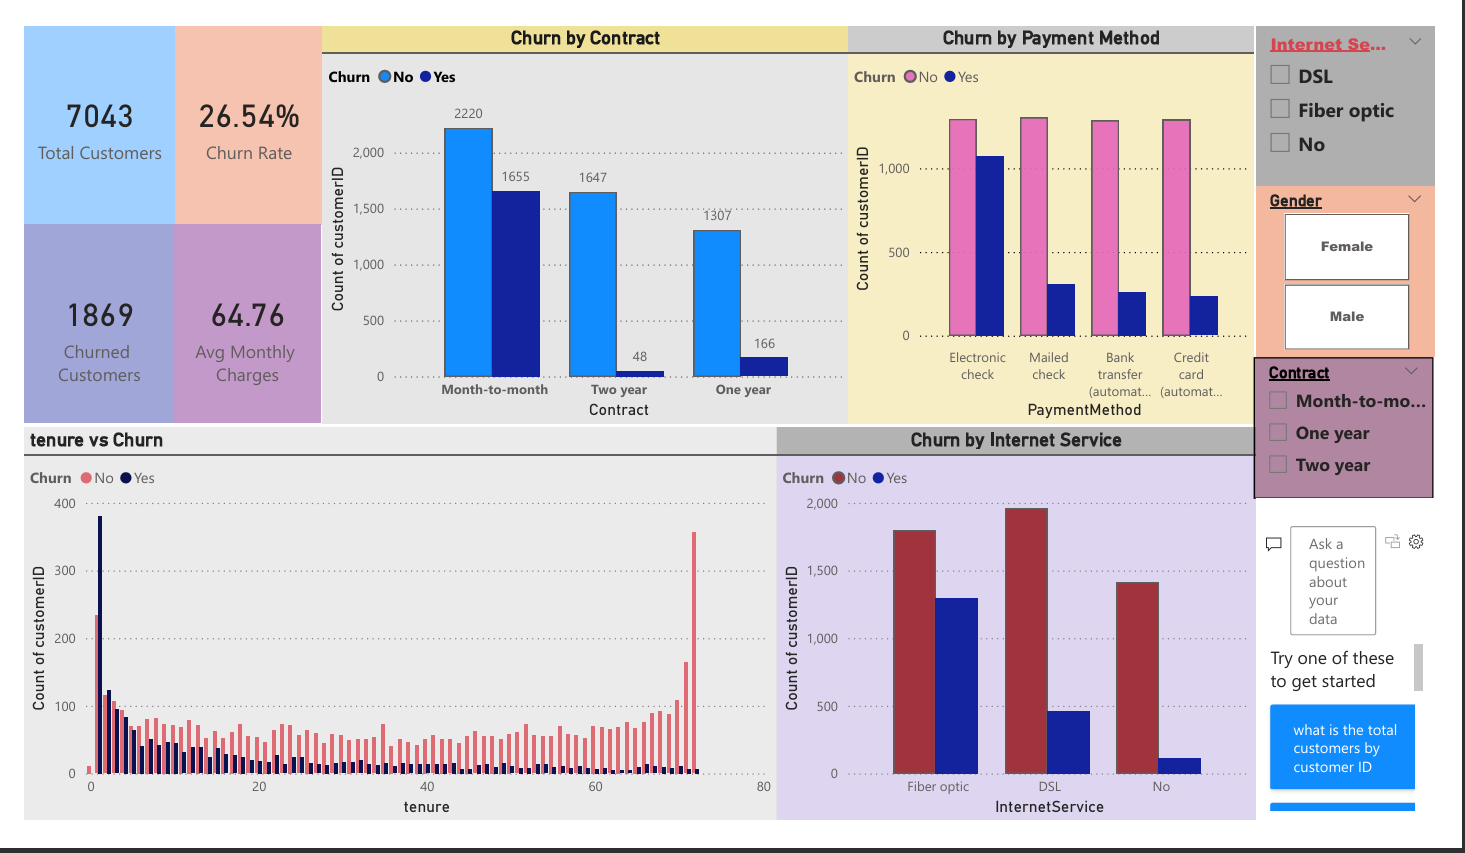

The dashboard page shown, as its layout file describes it:
{"tool":"powerbi","page":{"name":"Page 1","canvas":[1280,720],"ordinal":0},"visuals":[{"type":"card","fields":{"Values":["WA_Fn-UseC_-Telco-Customer-Churn.Total Customers"]},"box":[0,0,137.4,179.9],"z":0},{"type":"card","fields":{"Values":["WA_Fn-UseC_-Telco-Customer-Churn.Churned Customers"]},"box":[0,179.9,136,179.9],"z":1},{"type":"card","fields":{"Values":["WA_Fn-UseC_-Telco-Customer-Churn.Churn Rate"]},"box":[137.4,0,133.2,179.9],"z":2},{"type":"card","fields":{"Values":["WA_Fn-UseC_-Telco-Customer-Churn.Avg Monthly Charges"]},"box":[136,179.9,133.2,179.9],"z":3},{"type":"clusteredColumnChart","title":"Churn by Contract ","fields":{"Category":["WA_Fn-UseC_-Telco-Customer-Churn.Contract"],"Series":["WA_Fn-UseC_-Telco-Customer-Churn.Churn"],"Y":["CountNonNull(WA_Fn-UseC_-Telco-Customer-Churn.customerID)"]},"box":[270.6,0,477.4,359.8],"z":4},{"type":"clusteredColumnChart","title":"Churn by Payment Method ","fields":{"Category":["WA_Fn-UseC_-Telco-Customer-Churn.PaymentMethod"],"Y":["CountNonNull(WA_Fn-UseC_-Telco-Customer-Churn.customerID)"],"Series":["WA_Fn-UseC_-Telco-Customer-Churn.Churn"]},"box":[748,0,368.3,359.8],"z":5},{"type":"clusteredColumnChart","title":"Churn by Internet Service ","fields":{"Category":["WA_Fn-UseC_-Telco-Customer-Churn.InternetService"],"Y":["CountNonNull(WA_Fn-UseC_-Telco-Customer-Churn.customerID)"],"Series":["WA_Fn-UseC_-Telco-Customer-Churn.Churn"]},"box":[682.8,364.1,434.9,355.6],"z":6},{"type":"slicer","fields":{"Values":["WA_Fn-UseC_-Telco-Customer-Churn.Contract"]},"box":[1116.4,300.3,162.9,127.5],"z":7},{"type":"slicer","fields":{"Values":["WA_Fn-UseC_-Telco-Customer-Churn.gender"]},"box":[1117.8,144.5,162.9,155.8],"z":8},{"type":"slicer","fields":{"Values":["WA_Fn-UseC_-Telco-Customer-Churn.InternetService"]},"box":[1117.8,0,162.9,144.5],"z":9},{"type":"clusteredColumnChart","title":" tenure vs Churn","fields":{"Category":["WA_Fn-UseC_-Telco-Customer-Churn.tenure"],"Y":["CountNonNull(WA_Fn-UseC_-Telco-Customer-Churn.customerID)"],"Series":["WA_Fn-UseC_-Telco-Customer-Churn.Churn"]},"box":[0,364.1,682.8,355.6],"z":10},{"type":"textbox","box":[1117.8,566.7,161.5,153],"z":11},{"type":"qnaVisual","box":[1117.8,427.8,161.5,291.8],"z":12}]}

Visuals, with their boxes on the page's 1280x720 design canvas (x1, y1, x2, y2). These are canvas units, not pixel positions in the 1465x853 screenshot, which may show the page scaled, cropped or inside an application window:
card - WA_Fn-UseC_-Telco-Customer-Churn.Total Customers: box(0, 0, 137, 180)
card - WA_Fn-UseC_-Telco-Customer-Churn.Churned Customers: box(0, 180, 136, 360)
card - WA_Fn-UseC_-Telco-Customer-Churn.Churn Rate: box(137, 0, 271, 180)
card - WA_Fn-UseC_-Telco-Customer-Churn.Avg Monthly Charges: box(136, 180, 269, 360)
"Churn by Contract " clusteredColumnChart: box(271, 0, 748, 360)
"Churn by Payment Method " clusteredColumnChart: box(748, 0, 1116, 360)
"Churn by Internet Service " clusteredColumnChart: box(683, 364, 1118, 720)
slicer - WA_Fn-UseC_-Telco-Customer-Churn.Contract: box(1116, 300, 1279, 428)
slicer - WA_Fn-UseC_-Telco-Customer-Churn.gender: box(1118, 144, 1281, 300)
slicer - WA_Fn-UseC_-Telco-Customer-Churn.InternetService: box(1118, 0, 1281, 144)
" tenure vs Churn" clusteredColumnChart: box(0, 364, 683, 720)
textbox: box(1118, 567, 1279, 720)
qnaVisual: box(1118, 428, 1279, 720)
